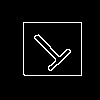T: (25, 25, 78, 79)
